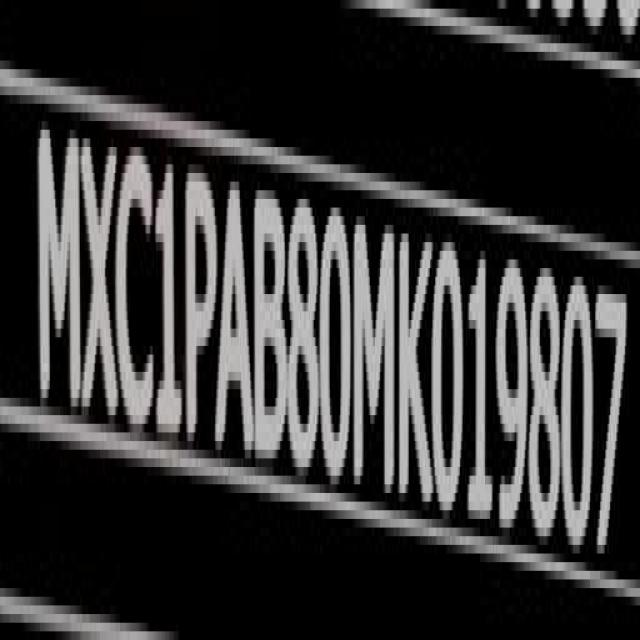0: (322, 196, 352, 494), (434, 234, 464, 524), (563, 268, 592, 562)
1: (158, 148, 183, 450), (467, 239, 489, 536)
7: (599, 279, 631, 575)
8: (531, 265, 564, 554), (292, 190, 322, 486)
9: (498, 251, 529, 539)
A: (218, 167, 254, 470)
B: (255, 177, 289, 472)
C: (118, 142, 159, 448)
K: (399, 221, 433, 538)
M: (34, 111, 78, 429), (354, 205, 398, 507)
P: (184, 141, 220, 471)
X: (81, 124, 118, 434)
